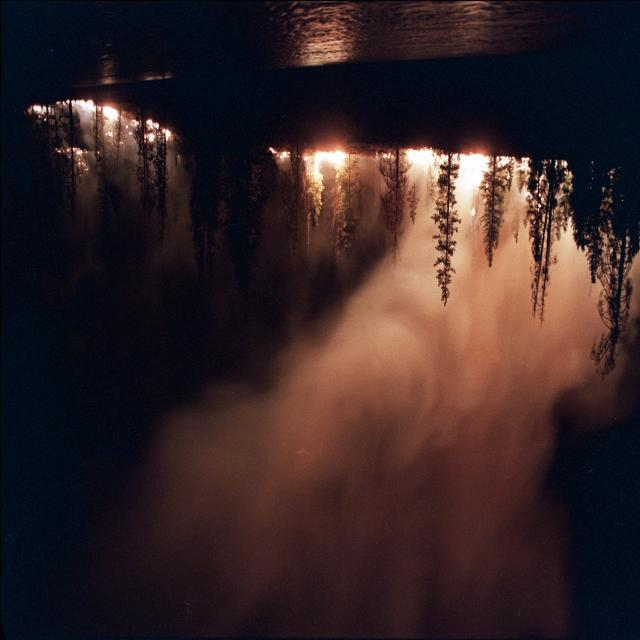Fire: (26, 100, 170, 142), (405, 149, 479, 220), (308, 150, 346, 168)
